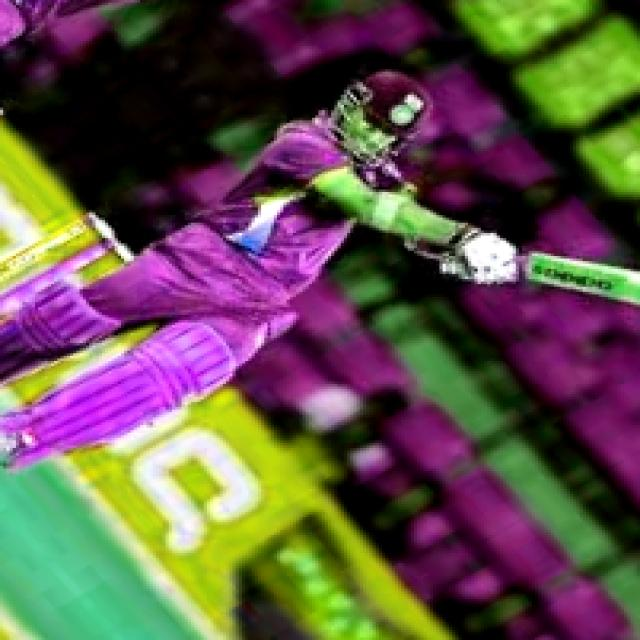toe: (613, 269, 640, 305)
